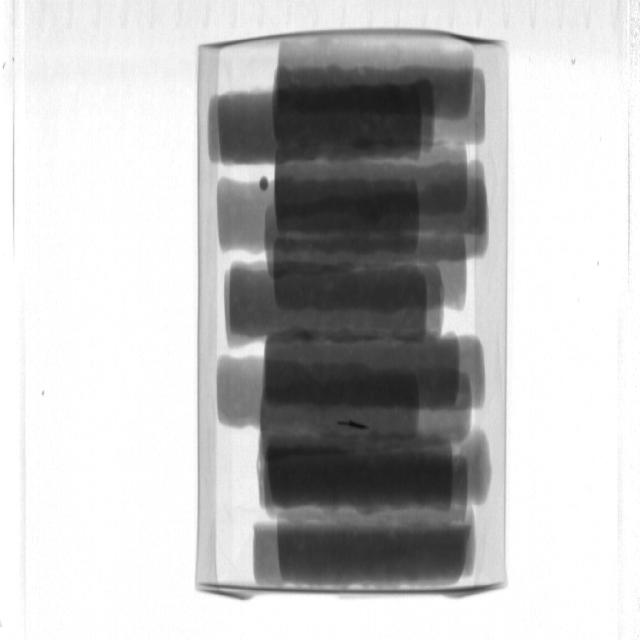ym: (340, 421, 369, 432), (261, 176, 271, 192)
